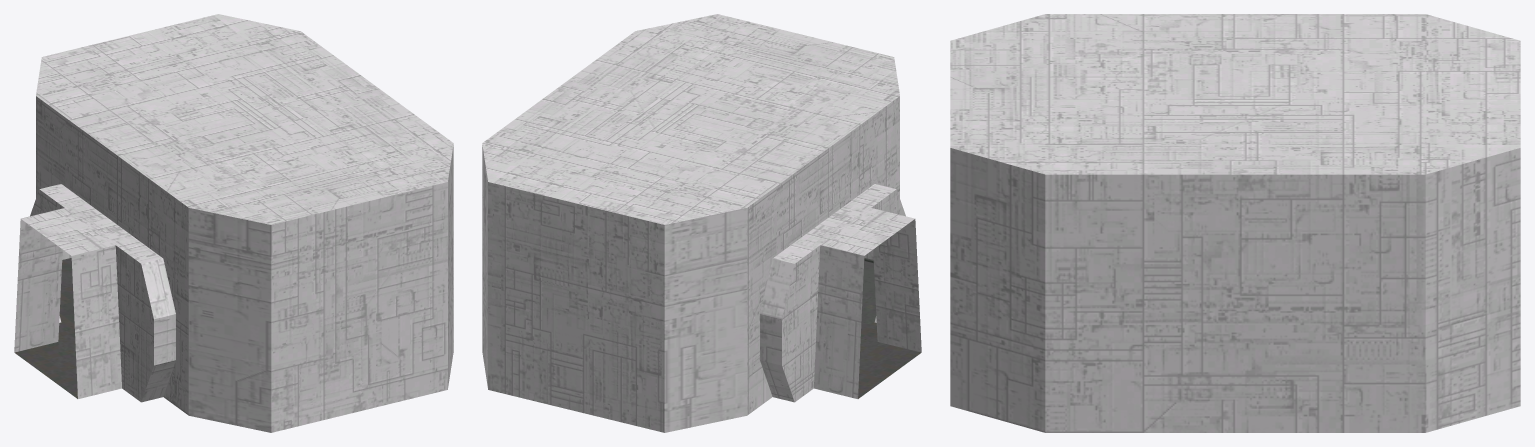
The model's file is thm_spc_star_destroyer_s01_r18_room03_mesh_r18.fbx.
The picture shows the model from 3 angles, left to right: view 1: azimuth 30°, elevation 25°; view 2: azimuth 150°, elevation 25°; view 3: azimuth 270°, elevation 25°; orthographic projection. The views are drawn at different scales.
Parts seen in each view (by area): view 1: mesh_node; view 2: mesh_node; view 3: mesh_node.
Part boxes in pixels (box(x1,y1,x2,y2)): mesh_node: box(14, 14, 453, 432); mesh_node: box(482, 14, 921, 432); mesh_node: box(950, 14, 1520, 432).
Bounding box in the file's own units: 7.5 × 4.5 × 9.
2 materials, 2 textured.
